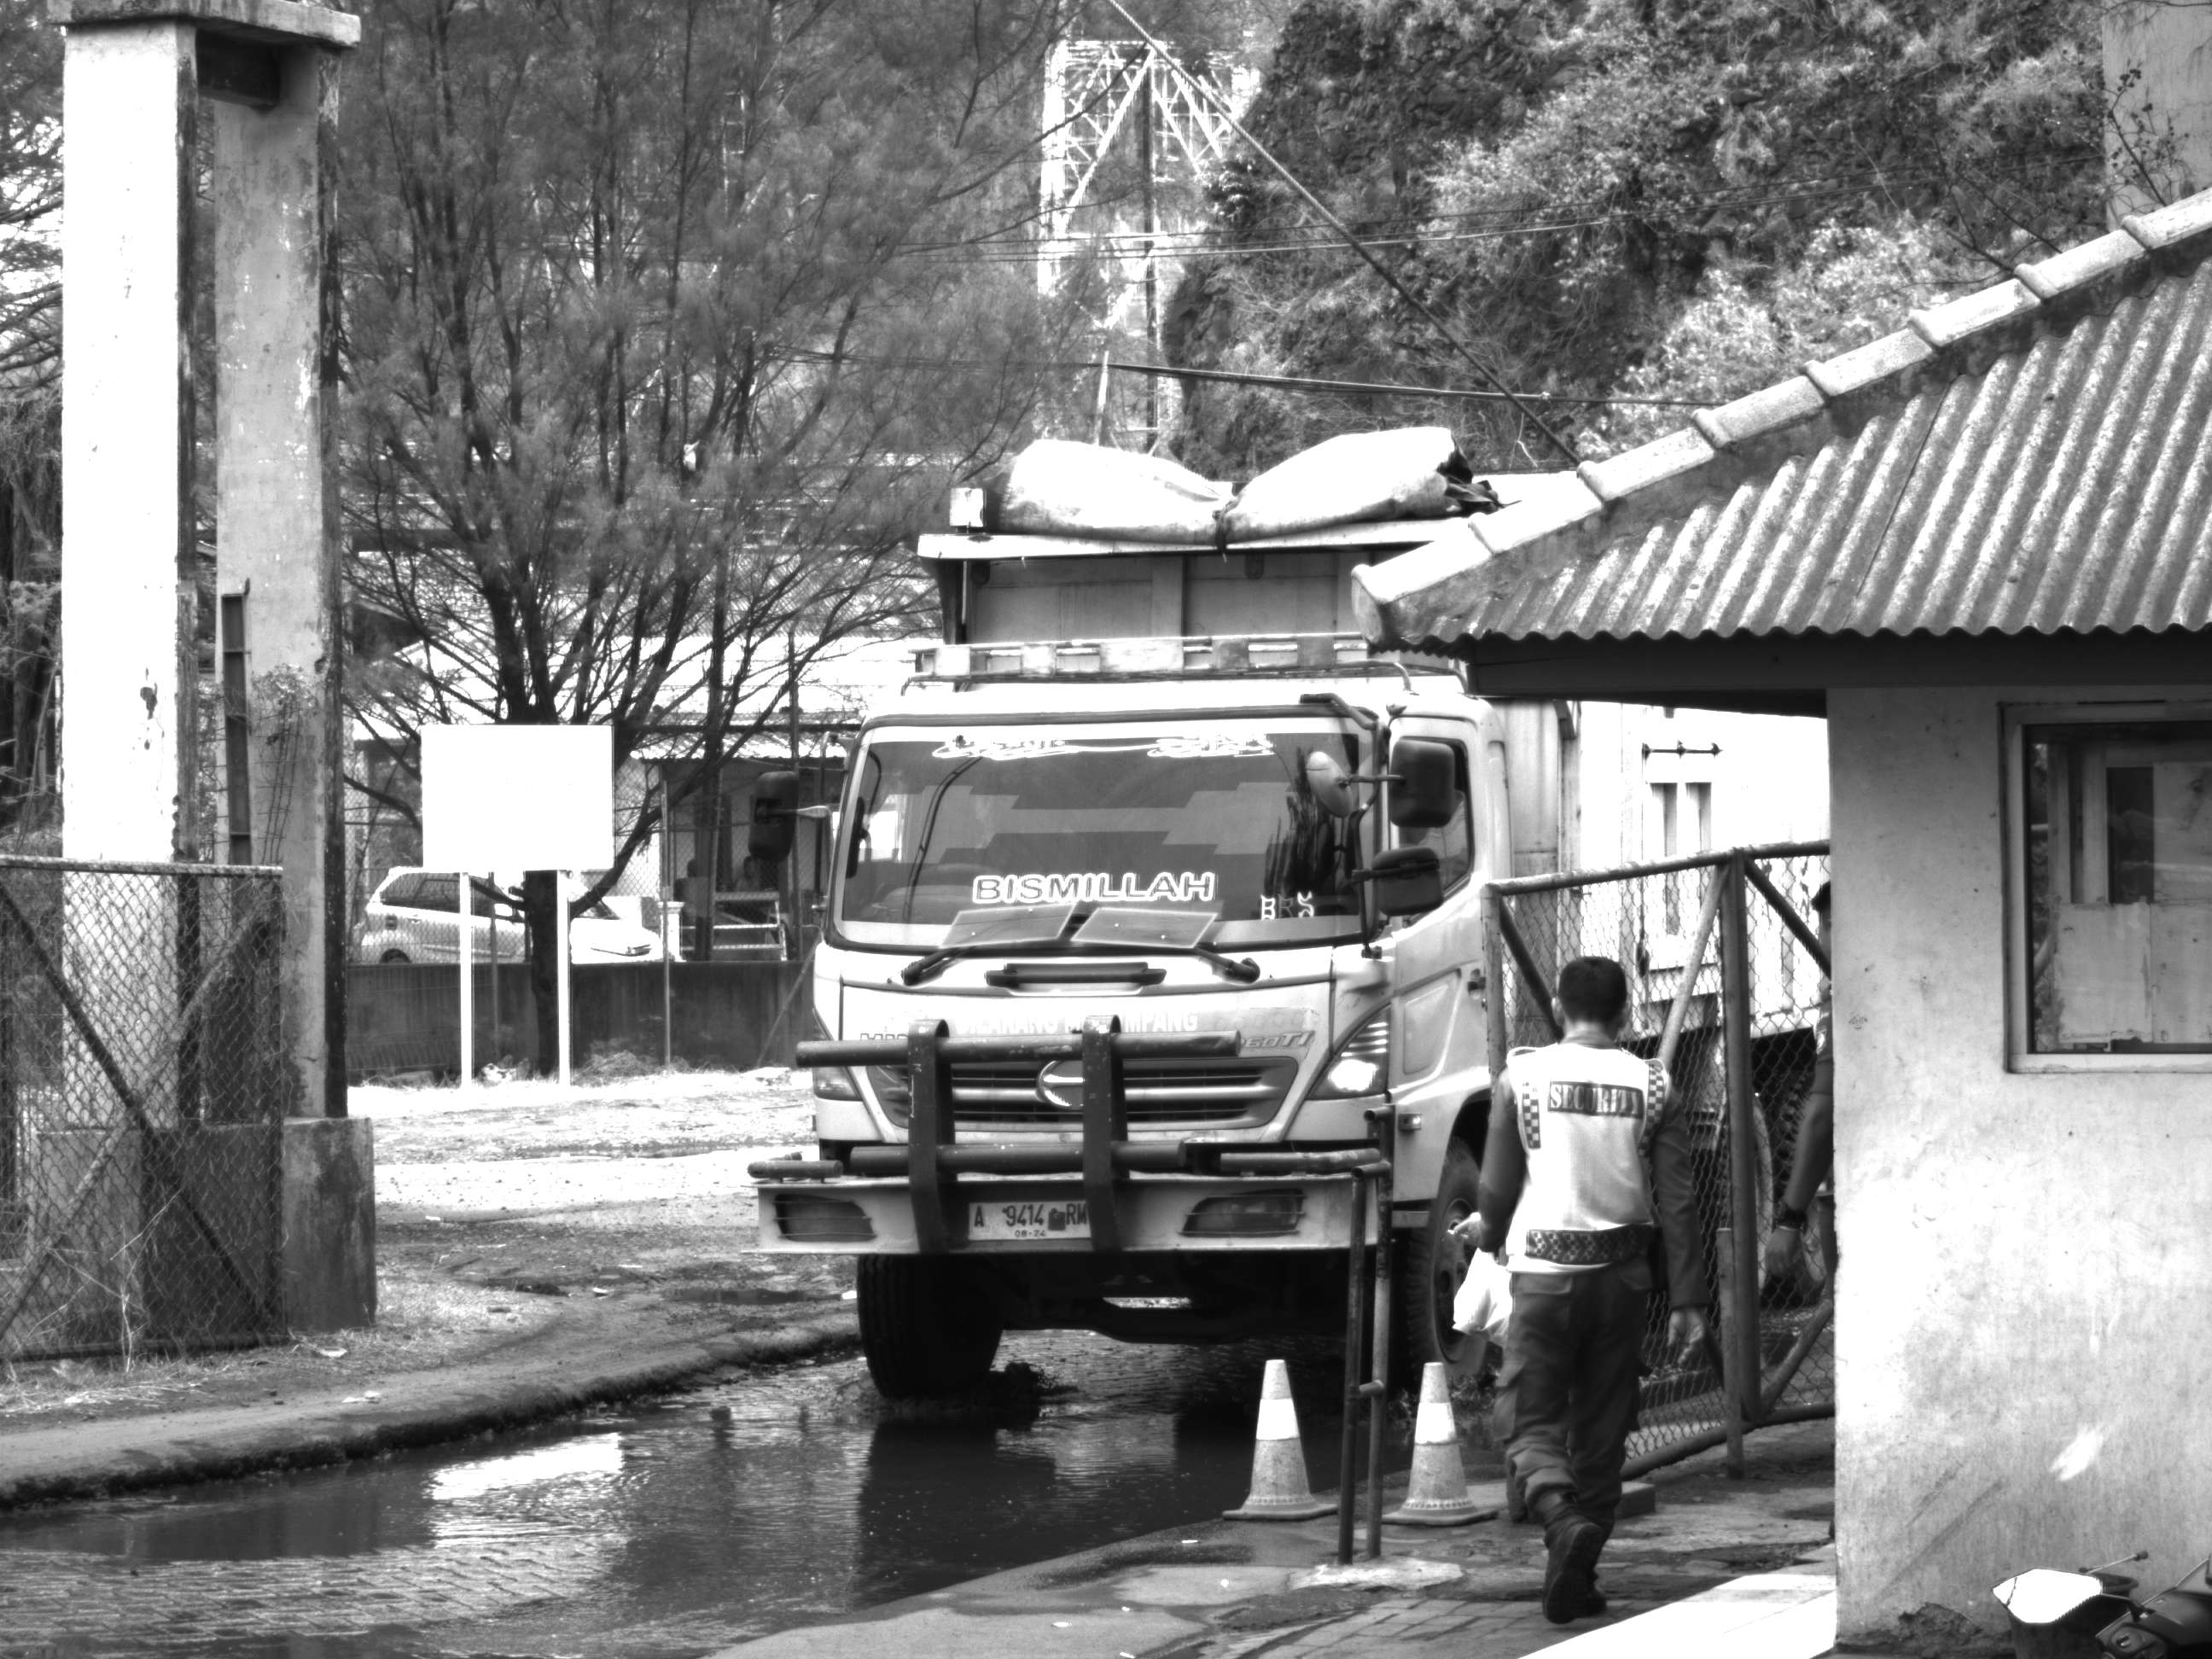day_truck_front: (747, 668, 1525, 1415)
plate: (968, 1200, 1099, 1239)
